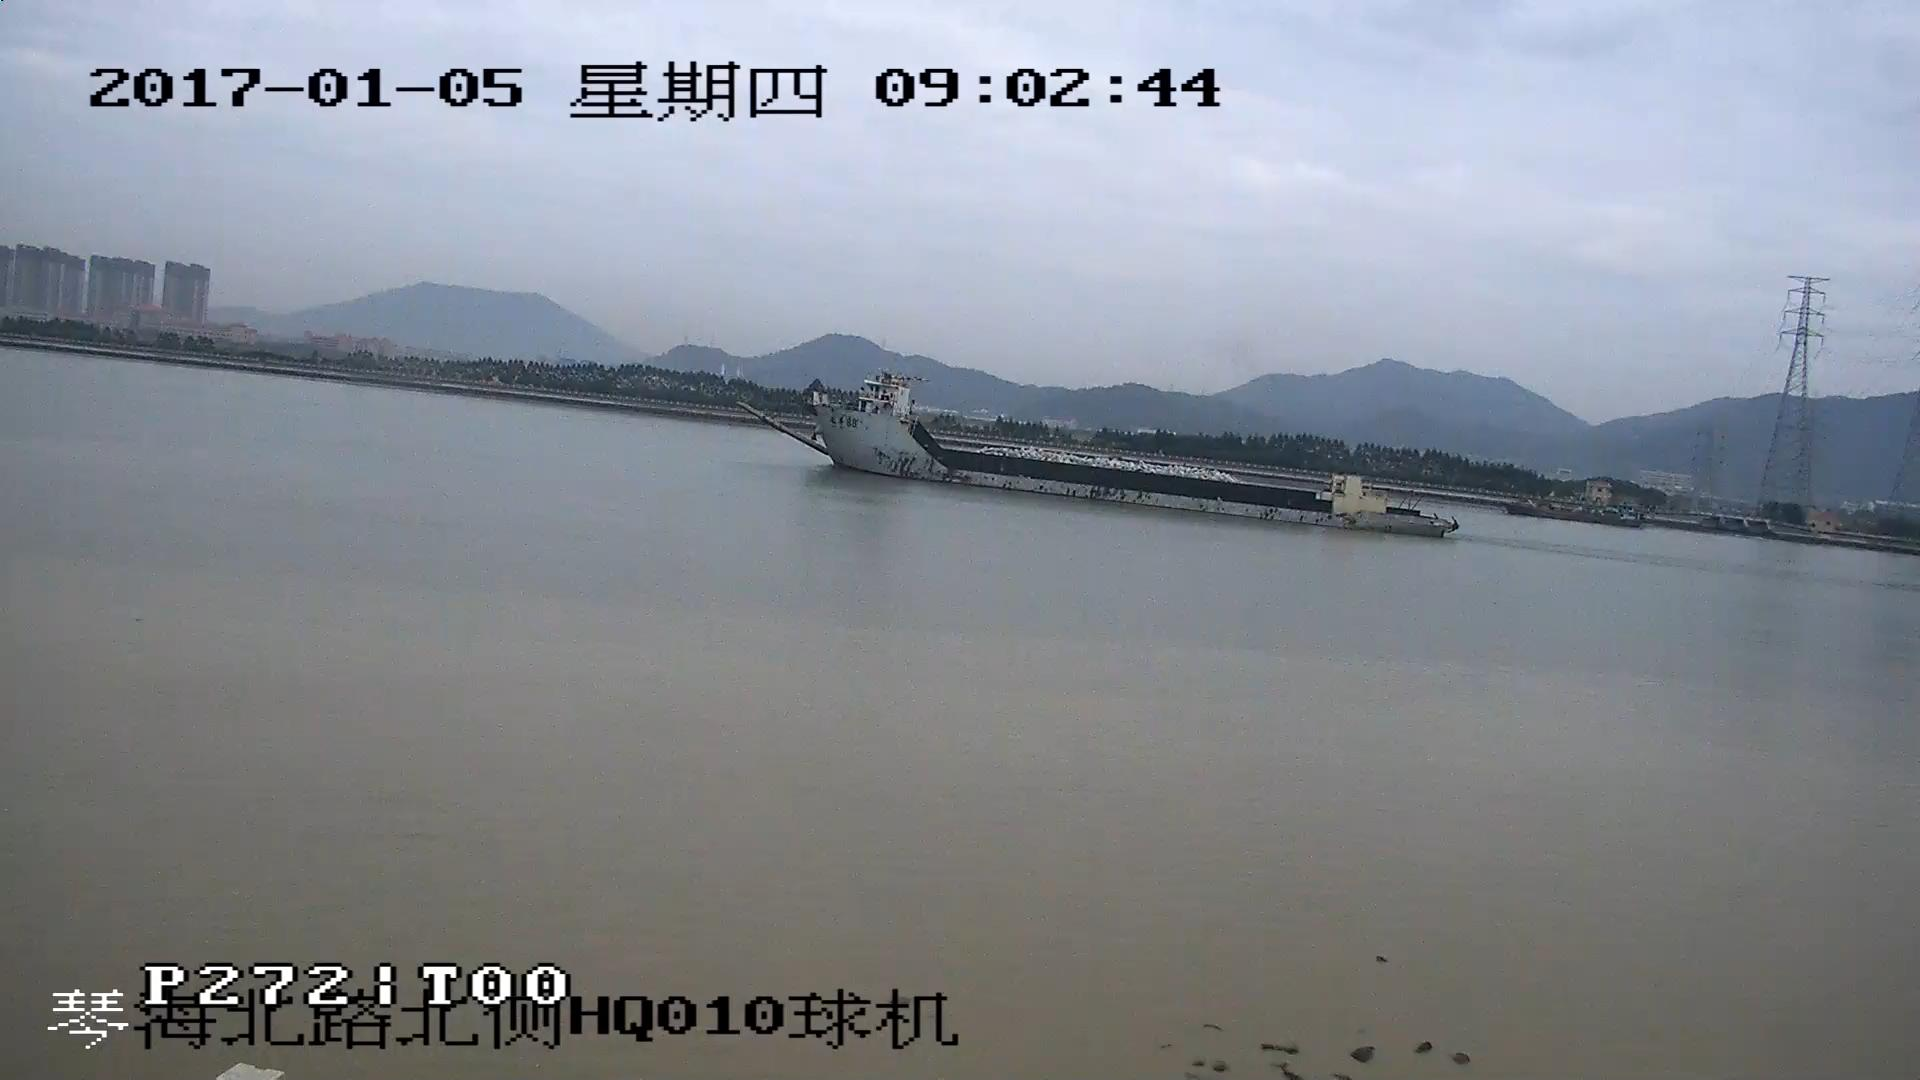bulk cargo carrier: (755, 375, 1455, 533)
